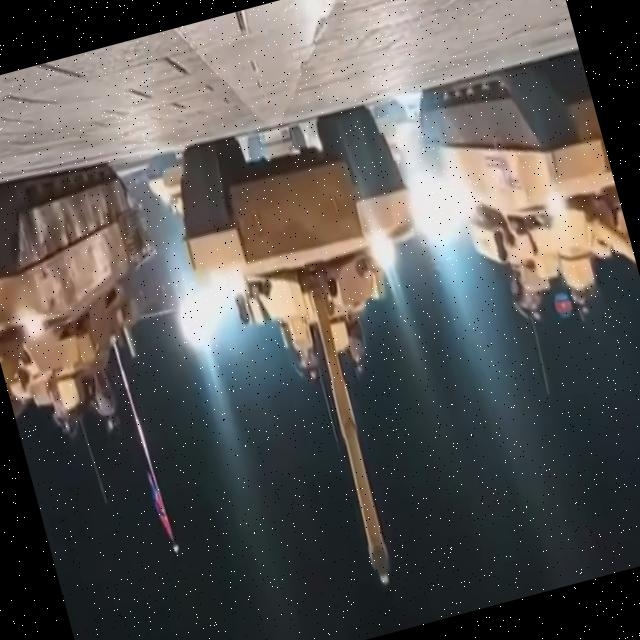north tank: (144, 76, 516, 628), (395, 11, 640, 421), (0, 133, 223, 525)
